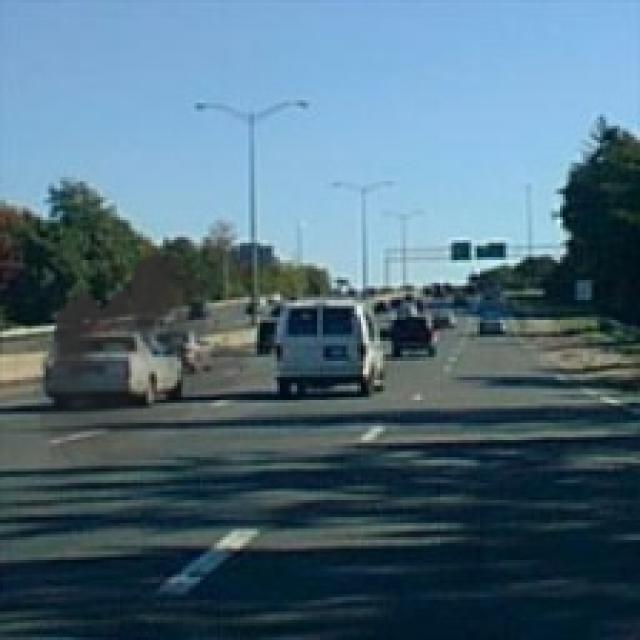Smoke: (35, 242, 252, 478)
